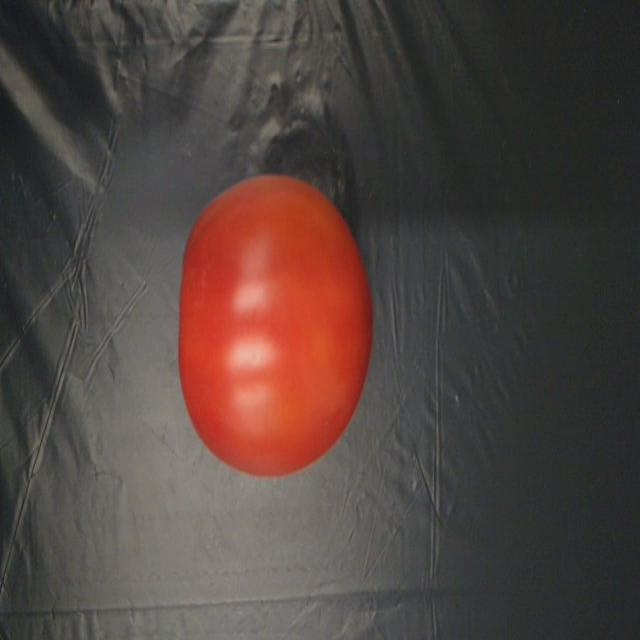kirmizi: (154, 186, 414, 472)
